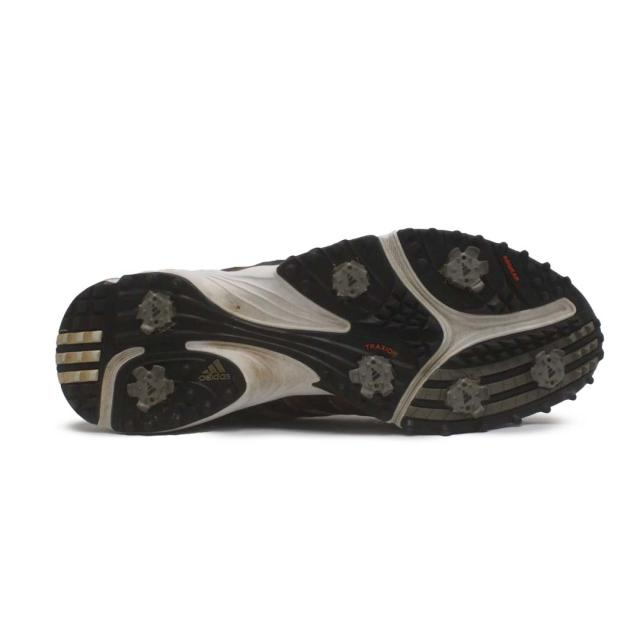outersole: (52, 225, 608, 433)
